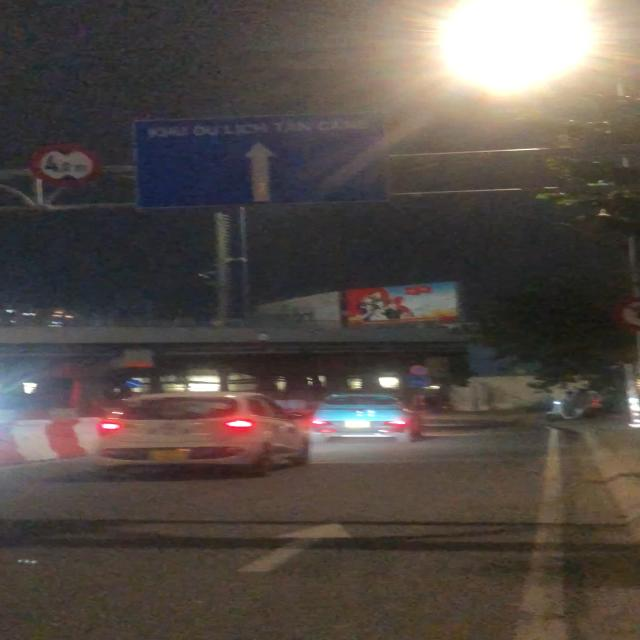Bien bao han che chieu cao: (27, 142, 104, 188)
